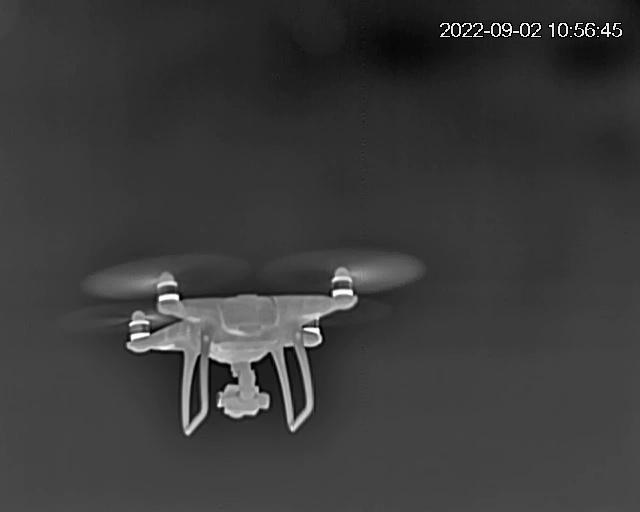DJI-Phantom: (88, 260, 391, 434)
